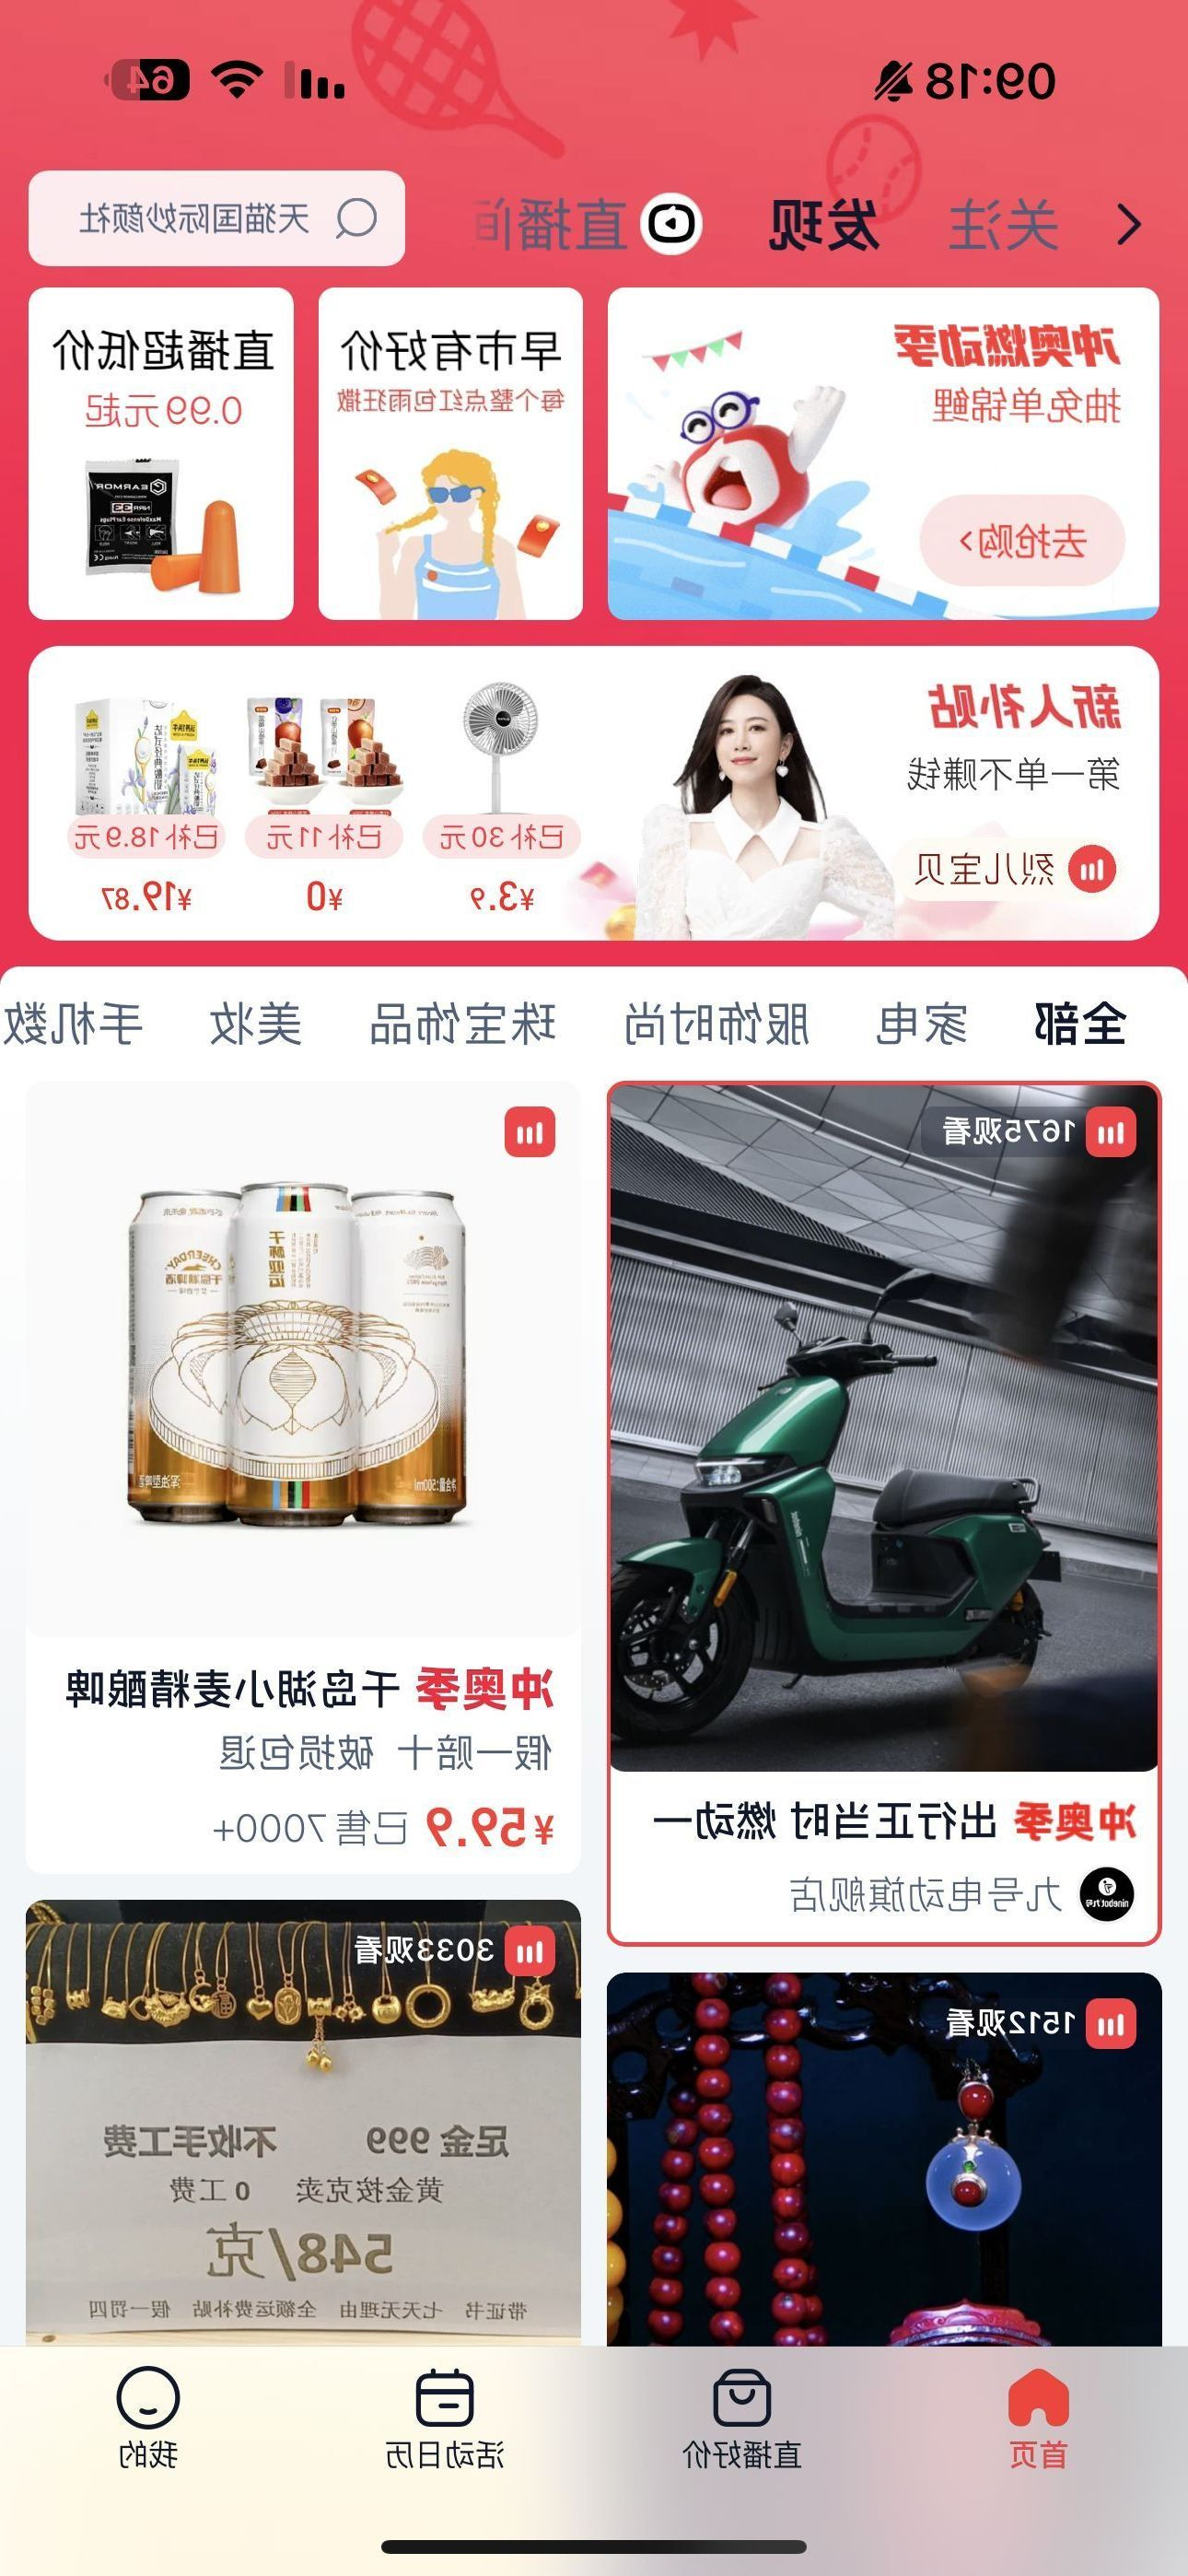item: (608, 1069, 1170, 1976), (8, 1066, 595, 1891)
op_bar: (3, 143, 1181, 271)
seckill: (12, 634, 1188, 964)
